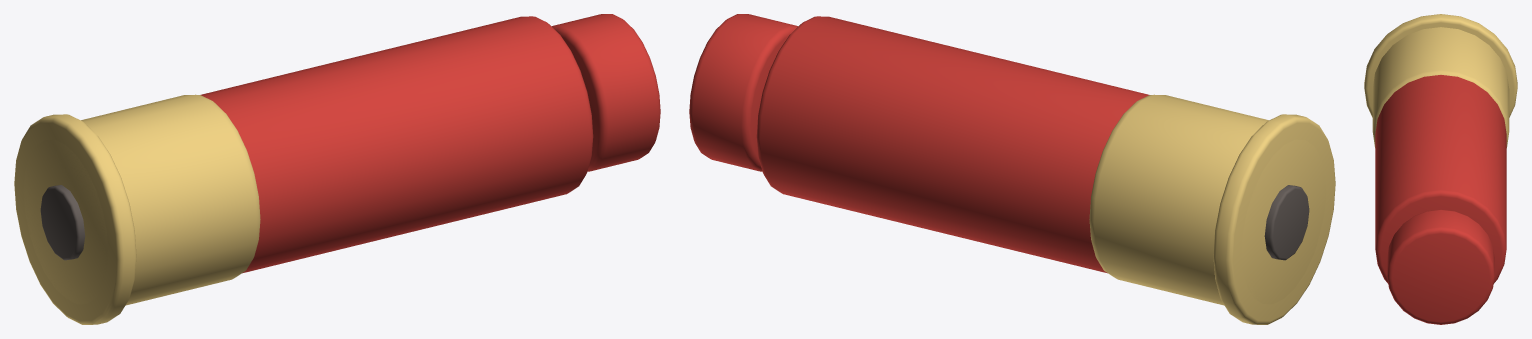
File: shell.glb
3 renders of one model, left to right at view 1: azimuth 30°, elevation 25°; view 2: azimuth 150°, elevation 25°; view 3: azimuth 270°, elevation 25°, orthographic. The views are drawn at different scales.
Parts seen in each view (by area): view 1: Shell; view 2: Shell; view 3: Shell.
Part boxes in pixels (box(x1,y1,x2,y2)): Shell: box(14, 14, 660, 324); Shell: box(689, 14, 1335, 324); Shell: box(1364, 14, 1517, 324).
Size of the model in its own units: 0.075 by 0.0246 by 0.0246.
